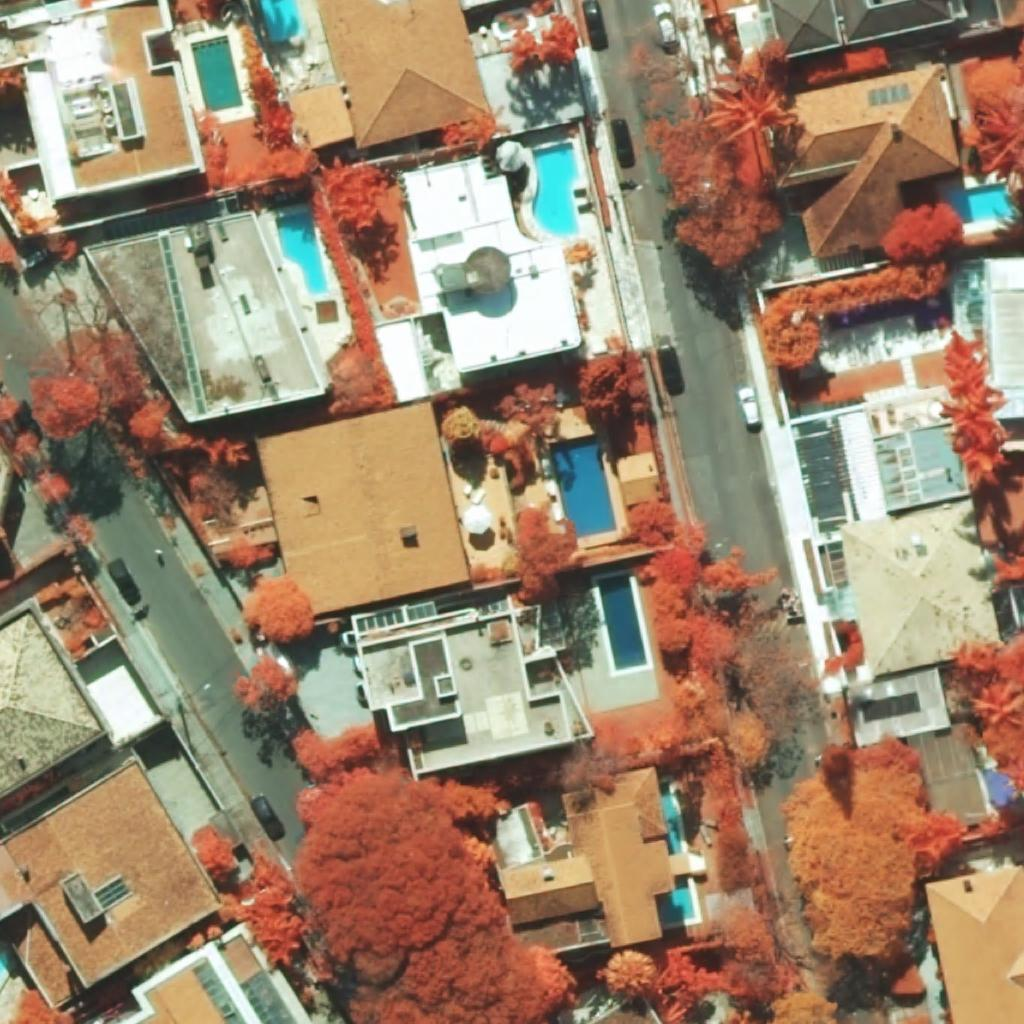pool: (549, 434, 617, 538), (597, 573, 647, 671), (532, 142, 580, 238), (276, 211, 328, 294), (190, 35, 243, 112), (949, 183, 1013, 223), (259, 0, 304, 41), (659, 877, 695, 924), (663, 790, 681, 854)
